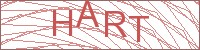A: (75, 1, 100, 28)
H: (51, 8, 73, 37)
R: (104, 10, 127, 37)
T: (128, 15, 150, 43)
